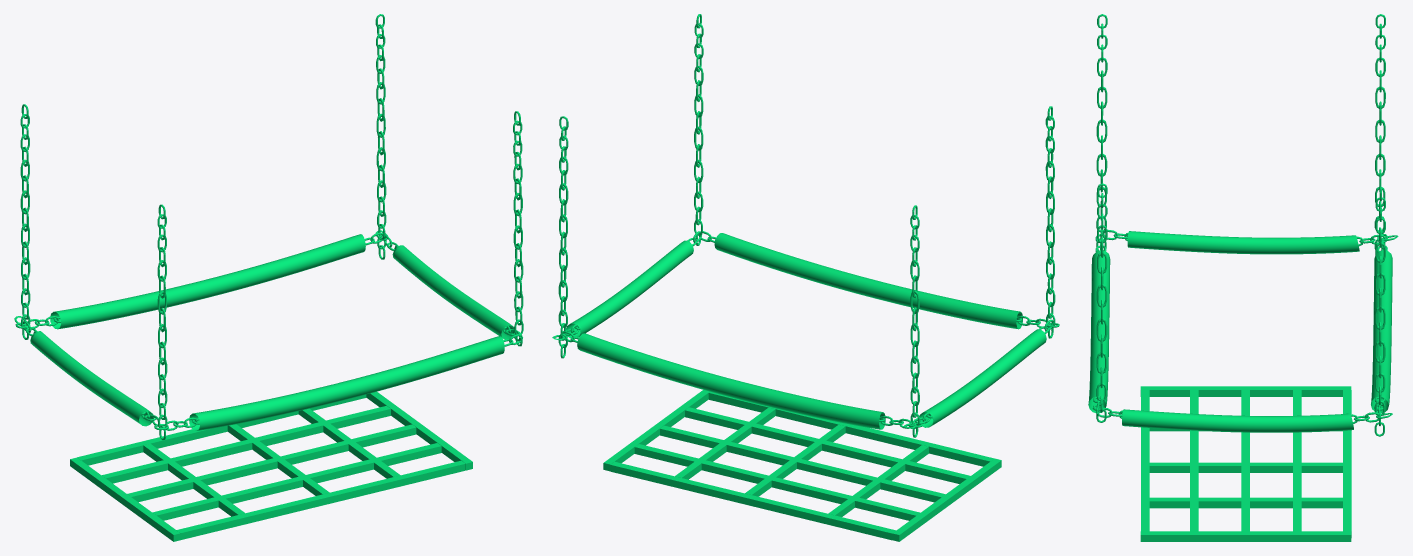
The model's file is Grizzly missing signs.fbx.
3 views of the same model, side by side, from view 1: azimuth 30°, elevation 25°; view 2: azimuth 150°, elevation 25°; view 3: azimuth 270°, elevation 25° (orthographic). The views are drawn at different scales.
Visible parts, largest first — view 1: Grizzly.002; view 2: Grizzly.002; view 3: Grizzly.002.
Boxes of the visible parts, <box> form: Grizzly.002: <box>14,14,523,541</box>; Grizzly.002: <box>552,14,1059,541</box>; Grizzly.002: <box>1088,14,1398,541</box>.
Size of the model in its own units: 186 by 172 by 130.
